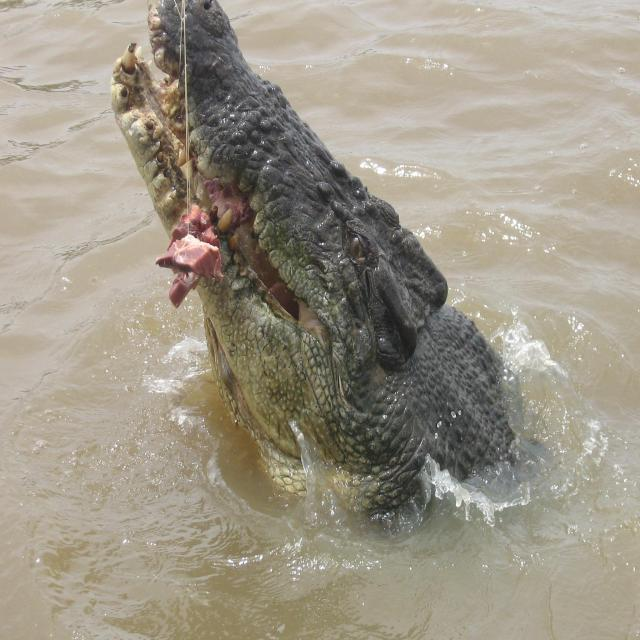crocodile: (88, 0, 546, 583)
